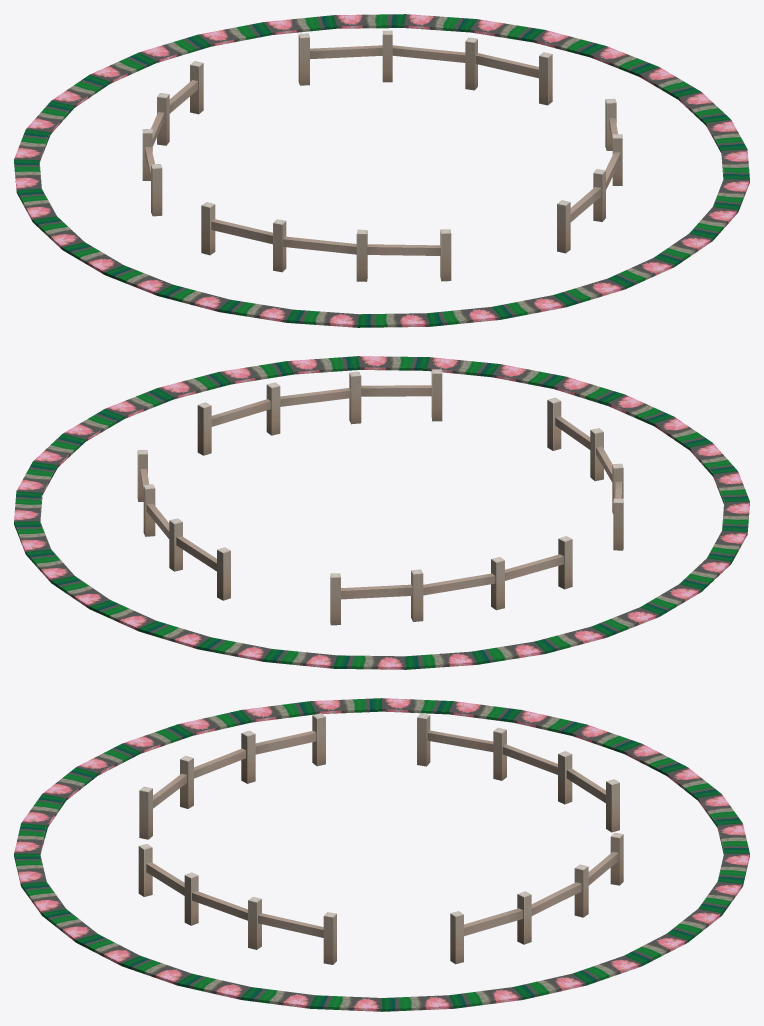
The model's file is 0166_T_ZhenYin_HuaYuan02.glb.
3 views of the same model, one above another, from view 1: azimuth 30°, elevation 25°; view 2: azimuth 150°, elevation 25°; view 3: azimuth 270°, elevation 25° (orthographic).
Size of the model in its own units: 2.2 by 0.1568 by 2.2.
1 material, 1 textured.
